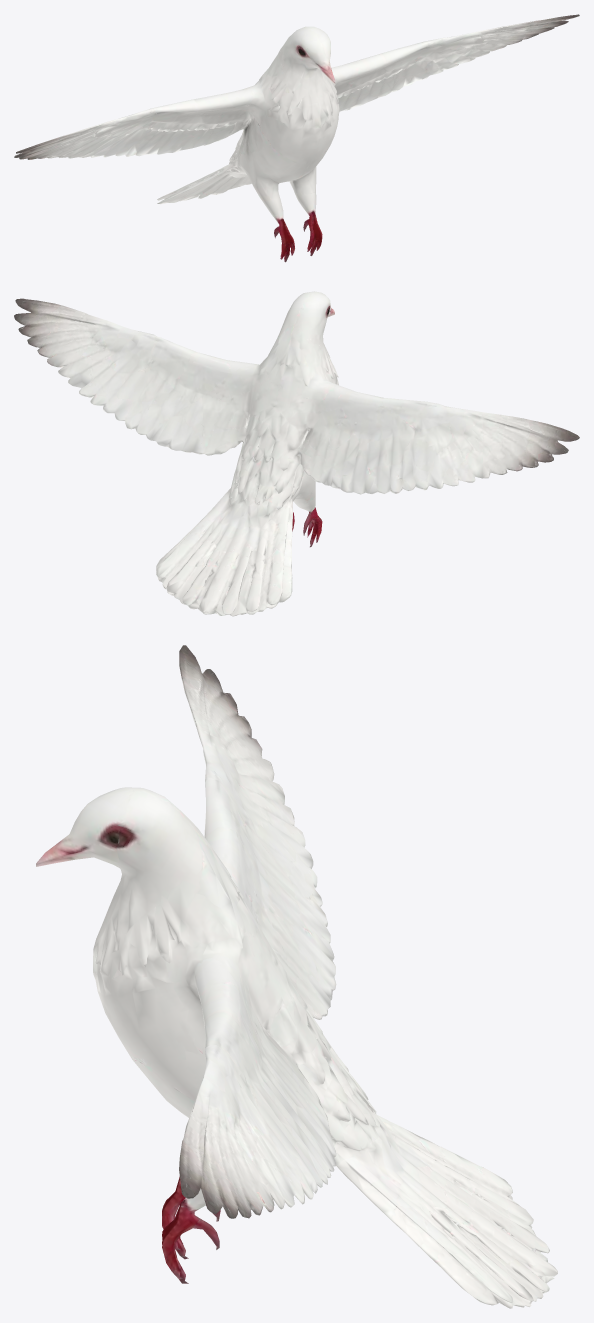
File: dove.glb
3 views of the same model, one above another, from view 1: azimuth 30°, elevation 25°; view 2: azimuth 150°, elevation 25°; view 3: azimuth 270°, elevation 25° (orthographic). The views are drawn at different scales.
Bounding box in the file's own units: 1.9 × 0.7829 × 0.7613.
1 material, 1 textured.
